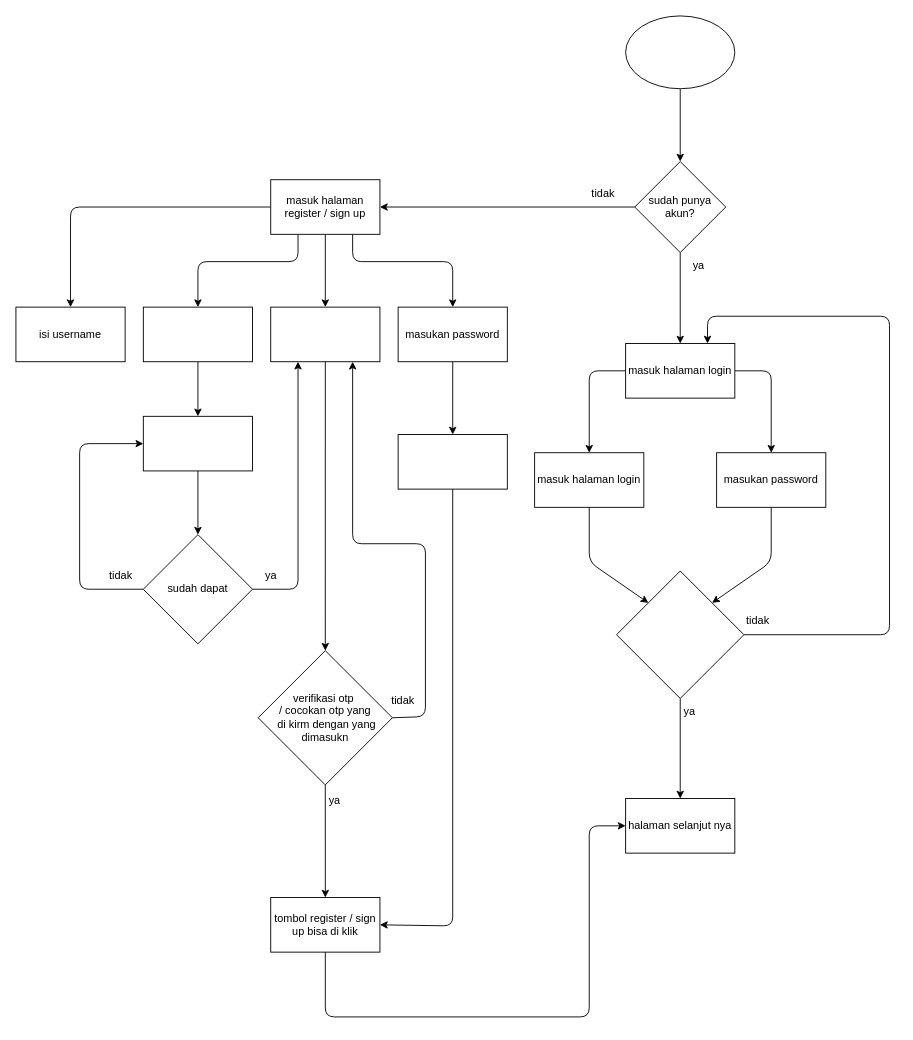
This 913x1040 diagram has some shape labels left out. Here are the shapes that lost their labels. From the top down, the centre of each, then its label:
At point (680, 52): "Mulai".
At point (197, 334): "isi email".
At point (325, 334): "masukan otp".
At point (197, 443): "minta kode otp".
At point (452, 461): "konfirmsi password".
At point (680, 634): "mencocokan dengan data di database".
